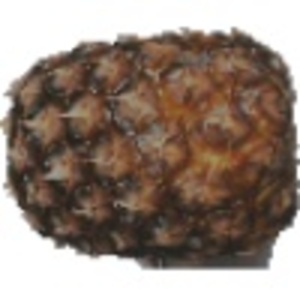abacaxi: (4, 23, 295, 258)
